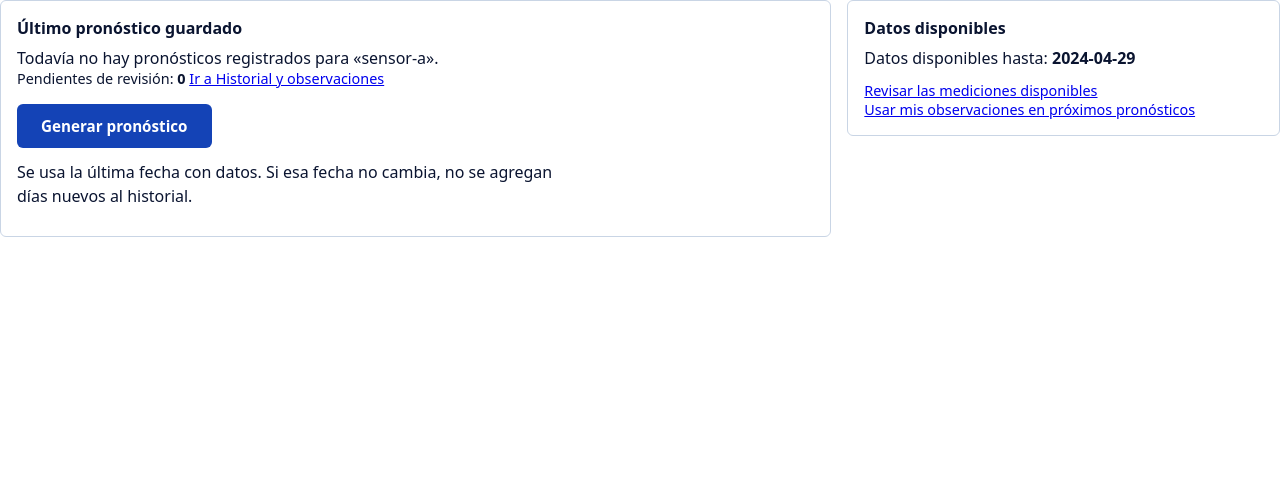
ResumenView › runs a forecast from Resumen without requiring the user to leave the view
This screenshot has width=1280, height=504.
Expected: the text "Todavía no hay pronósticos registrados para «sensor-a»." is shown, [17, 47, 438, 69]
Click the button "Generar pronóstico".
click(114, 126)  # box [17, 104, 212, 148]
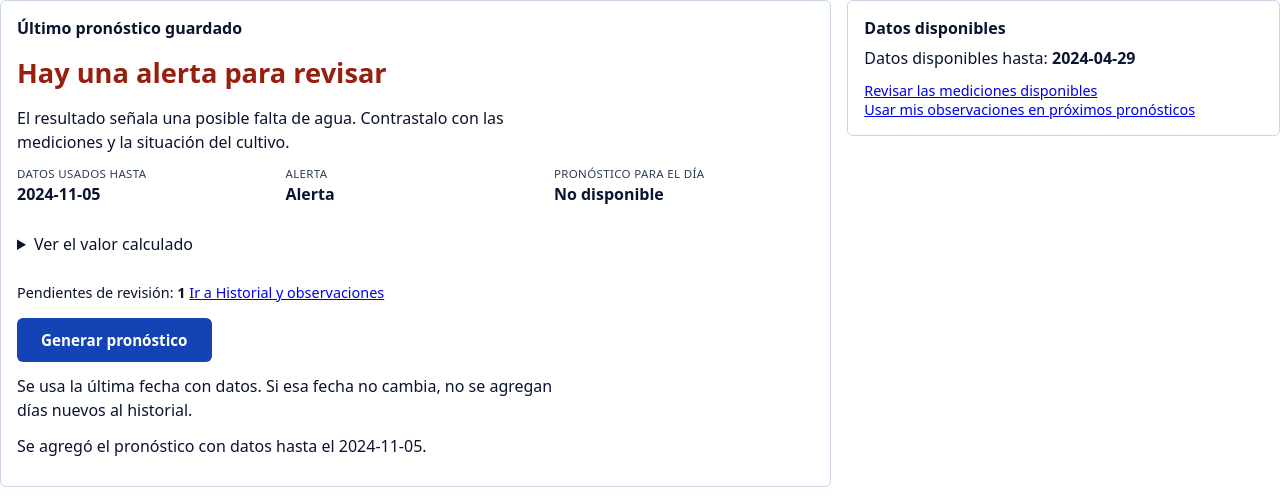
Expected: the text "2024-11-05" is shown, [17, 183, 100, 205]
